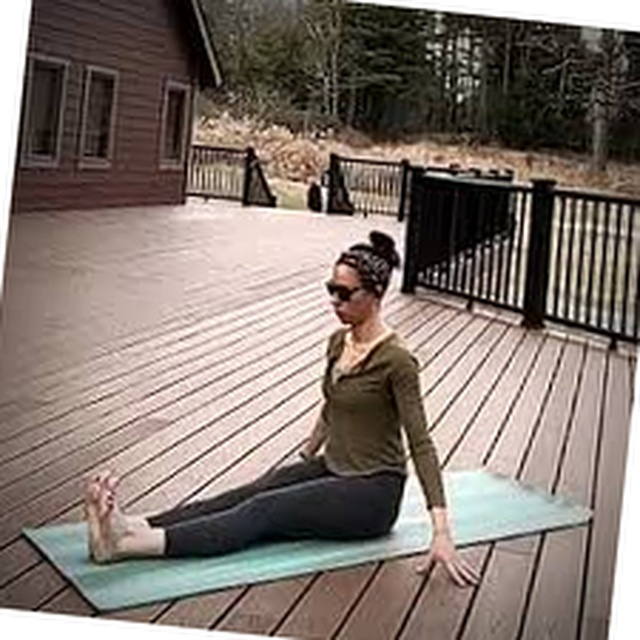Staff_Pose: (79, 228, 487, 592)
